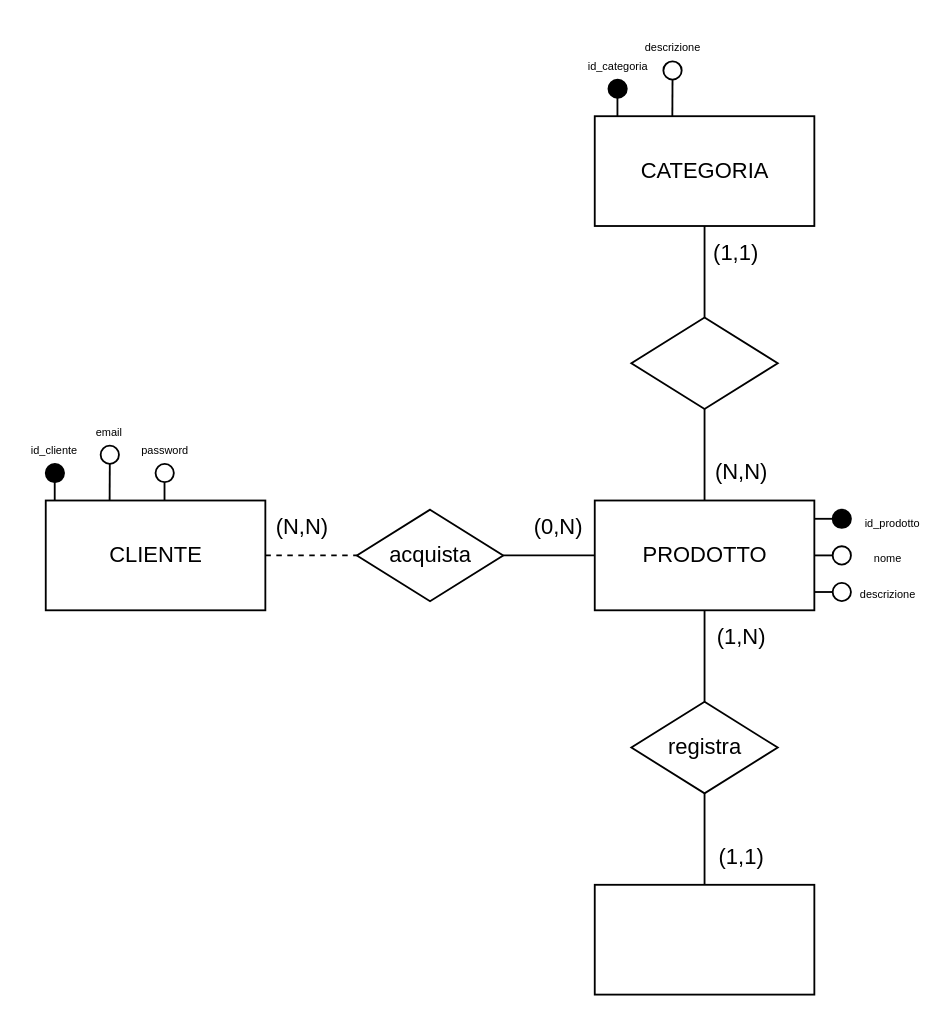
This 950x1027 diagram has some shape labels left out. Here are the shapes that lost their labels. From the top down, the box of each, then its label:
(630, 316, 778, 409): appartiene
(593, 883, 814, 995): CARRELLO
